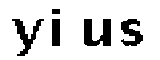i: (47, 6, 68, 51)
s: (119, 16, 145, 49)
u: (78, 14, 115, 52)
y: (8, 16, 46, 59)
